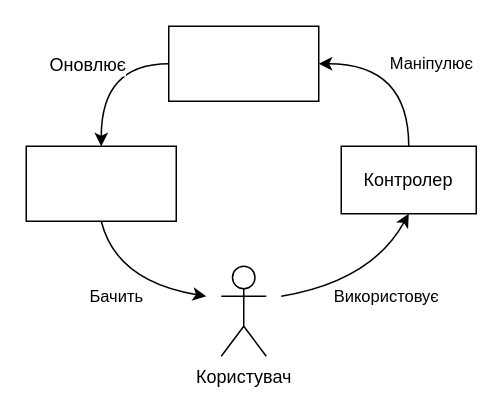
The diagram is 503 pixels wide and 414 high, and some of its shapes have lost their labels. Each missing label, with the box of its shape:
Модель: (167, 25, 319, 101)
Представлення: (25, 145, 176, 221)
